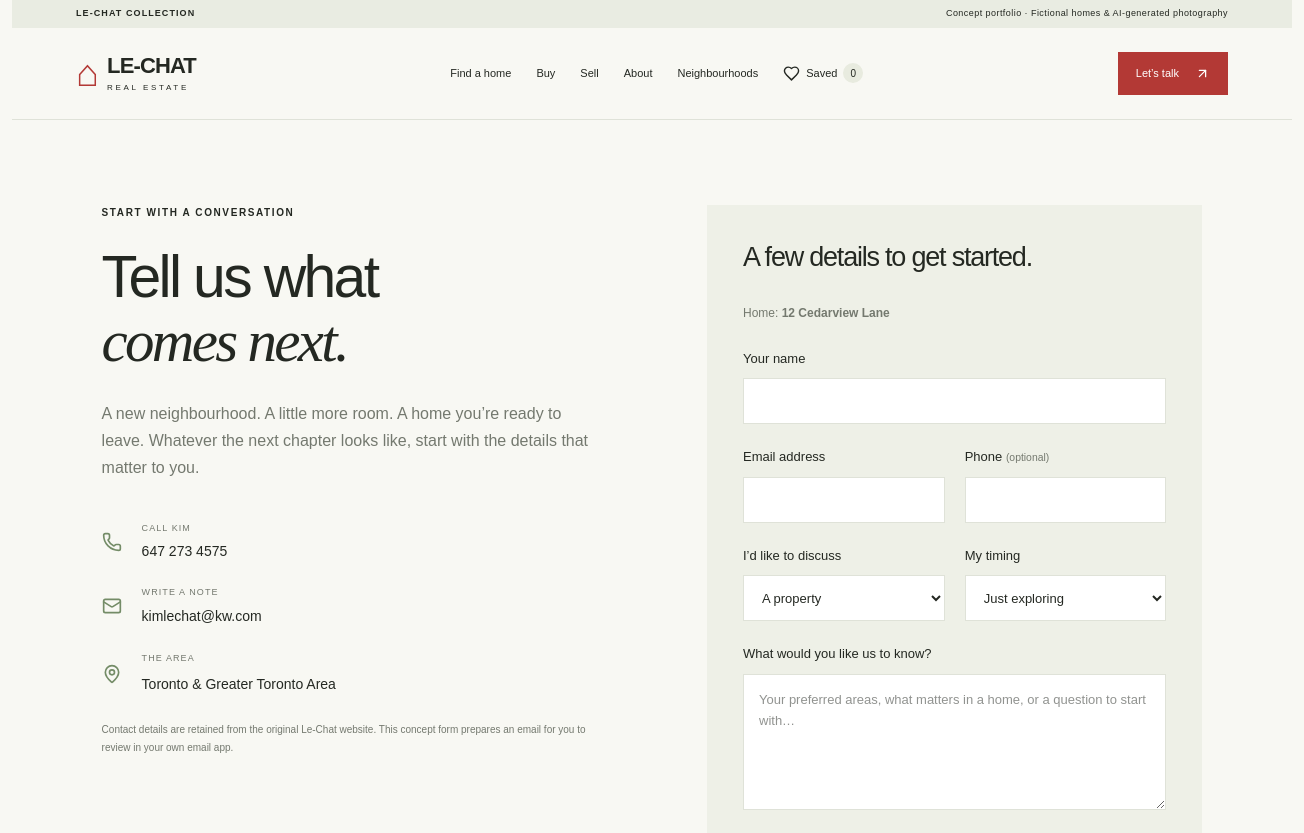
Scenario: contact form prepares a reviewable email without claiming submission
Type "Alex Buyer" into the field labelled "Your name" at (955,401), box [743,378,1166,424]
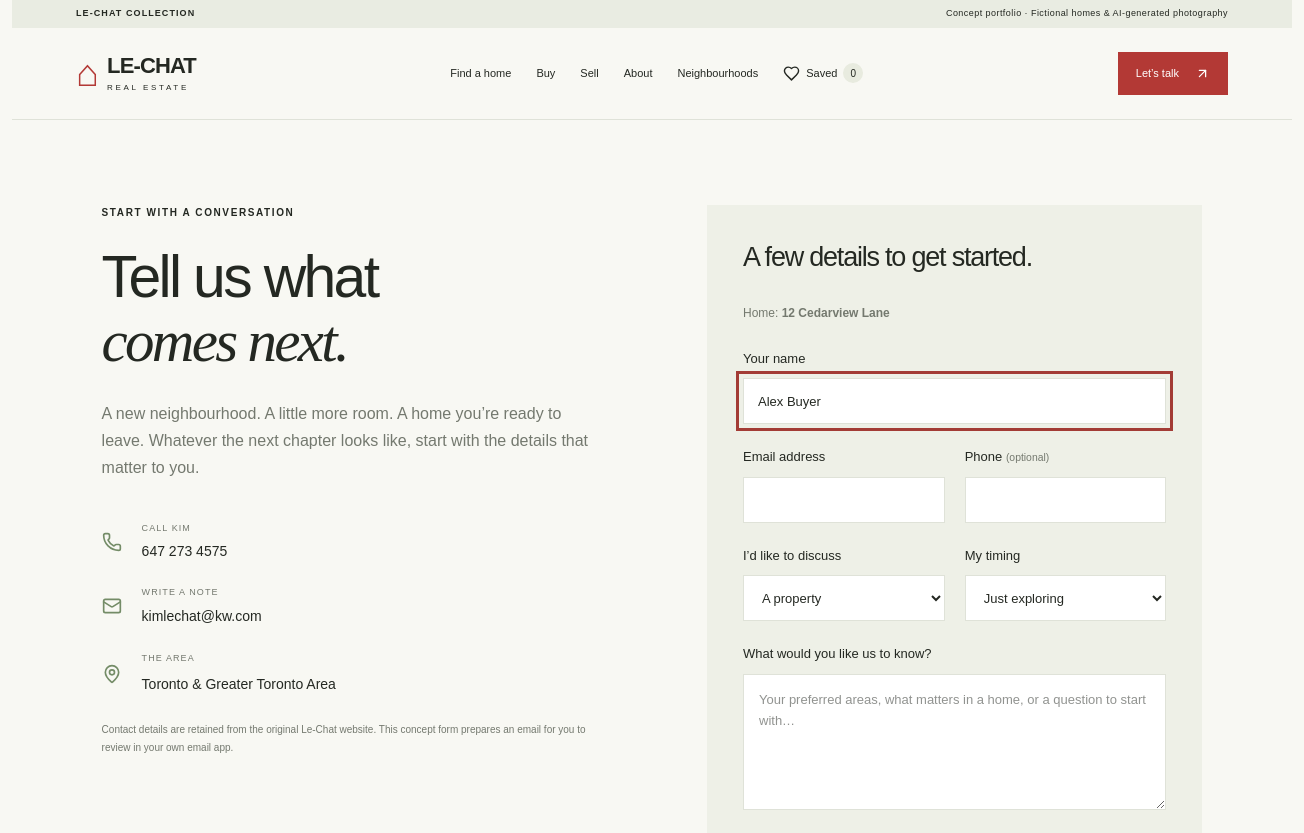
Type "alex@example.com" into the field labelled "Email address" at (844,500), box [743,477,945,523]
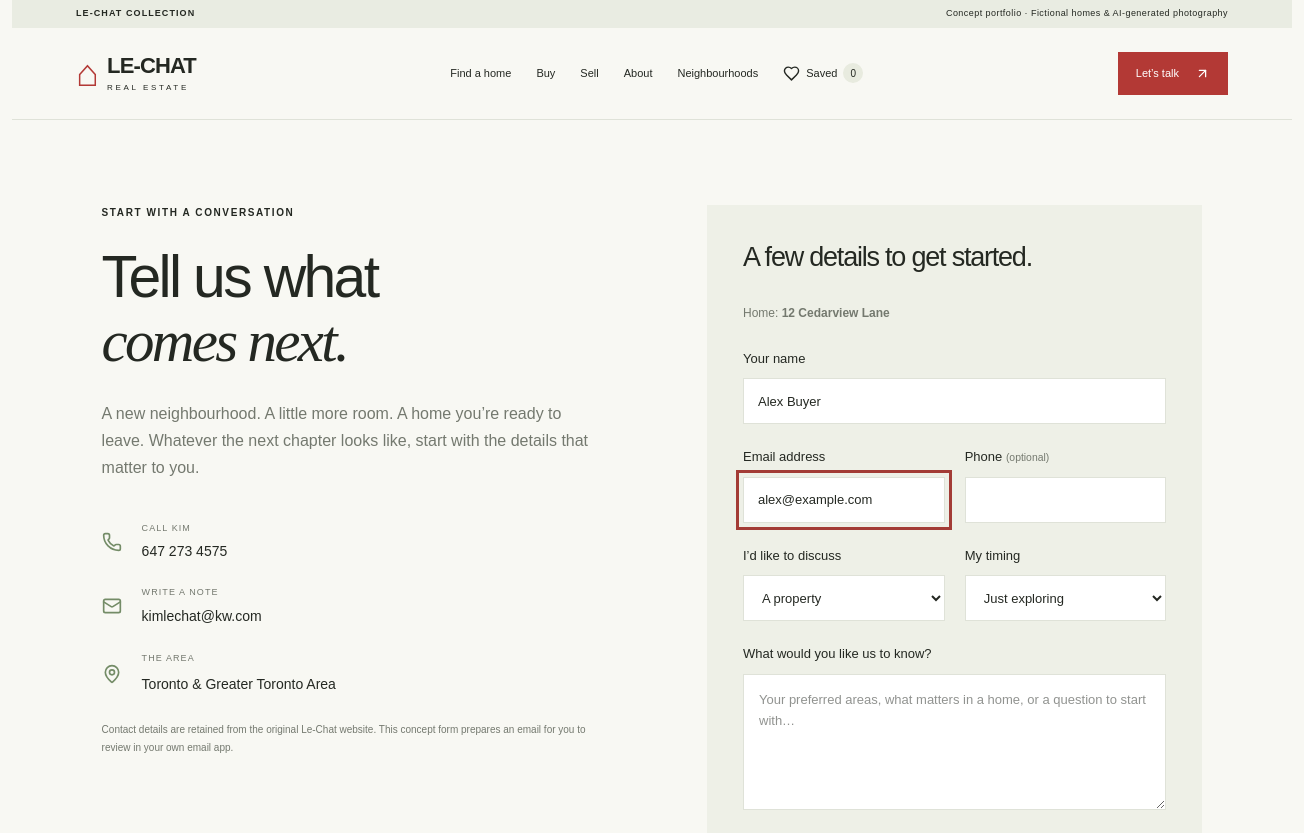
Type "I would like to discuss my search." into the text box labelled "What would you like us to know?" at (955,742), box [743,674,1166,810]
(page scrolled)
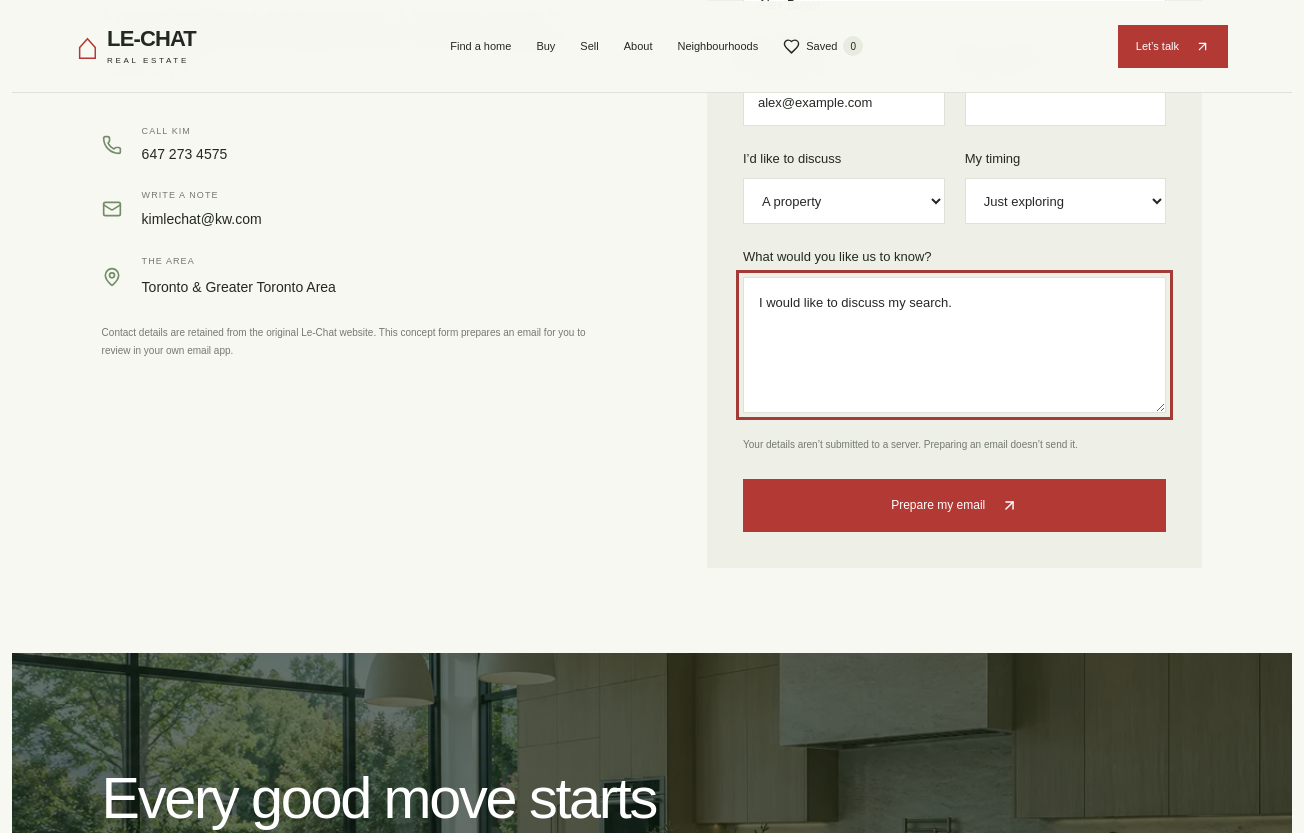
Click the button "Prepare my email" at (955,505), box [743,479,1166,532]
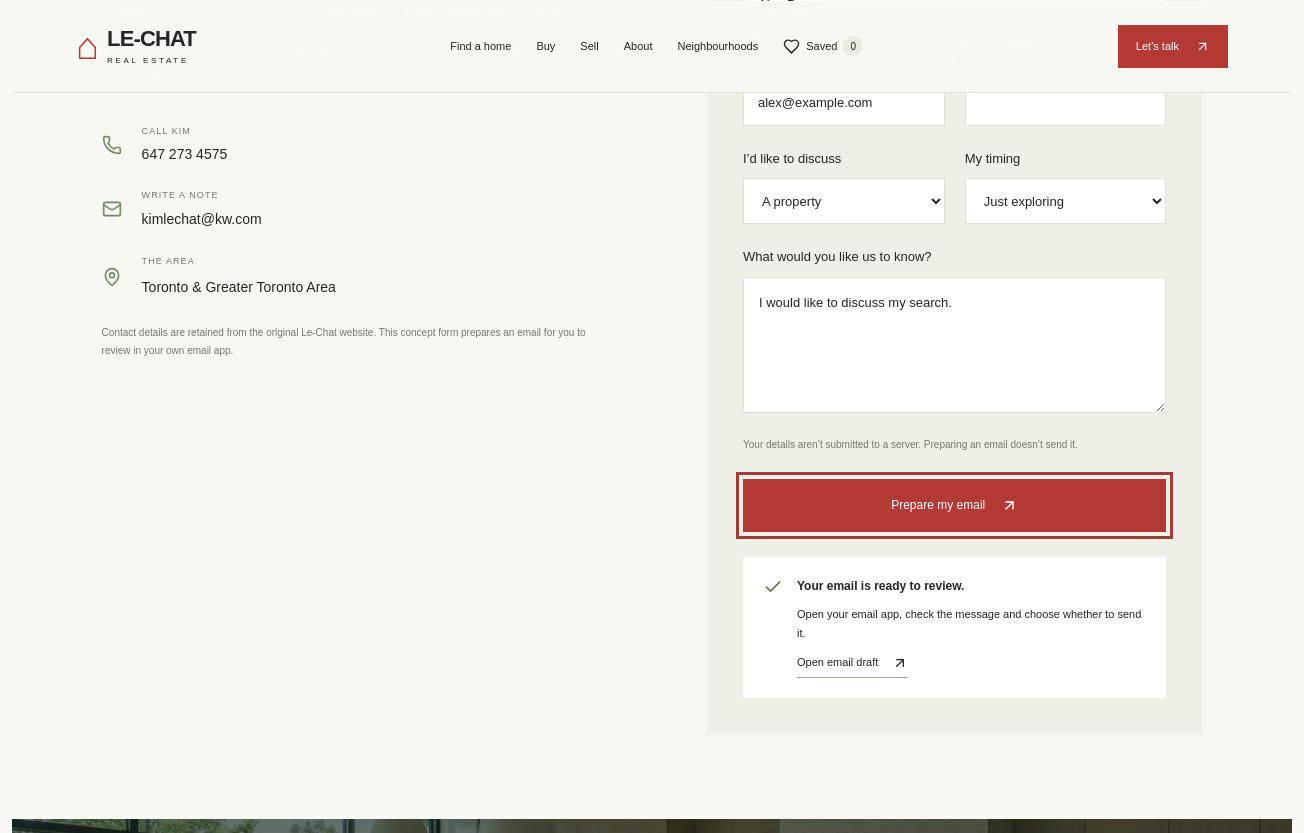
Now the text "Your email is ready to review." is shown, box [797,579,964,593]
